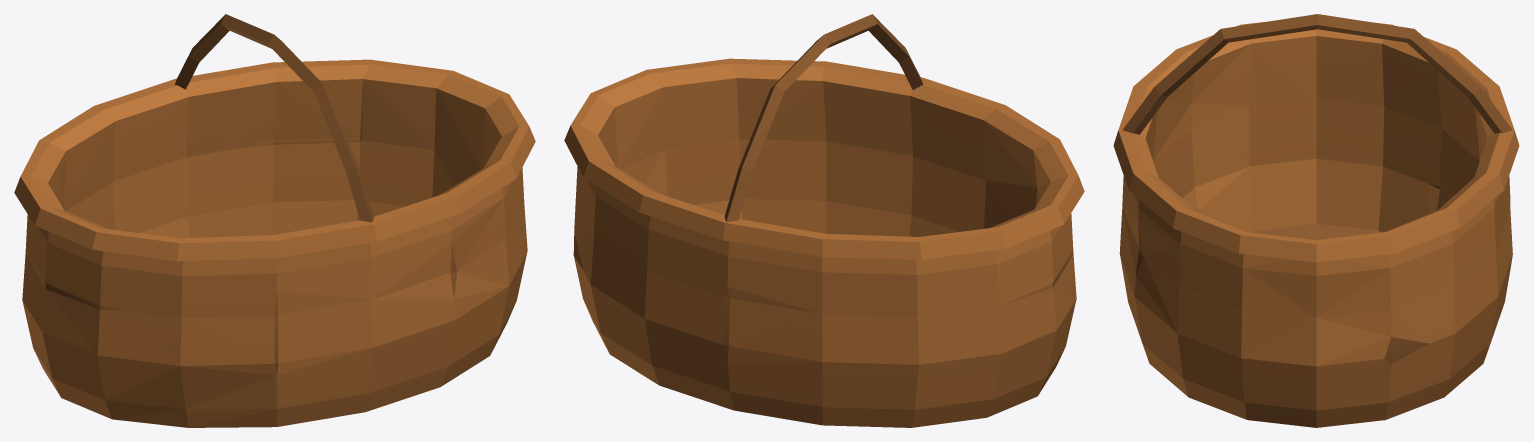
The model's file is Prop_Basket_01.obj.
The picture shows the model from 3 angles, left to right: view 1: azimuth 30°, elevation 25°; view 2: azimuth 150°, elevation 25°; view 3: azimuth 270°, elevation 25°; orthographic projection.
Visible parts, largest first — view 1: Prop_Basket_01; view 2: Prop_Basket_01; view 3: Prop_Basket_01.
Boxes of the visible parts, bbox=[...] form: Prop_Basket_01: bbox=[14, 14, 535, 427]; Prop_Basket_01: bbox=[564, 14, 1084, 427]; Prop_Basket_01: bbox=[1113, 14, 1519, 427].
Size of the model in its own units: 0.6348 by 0.3927 by 0.4662.
1 material, 1 textured.
